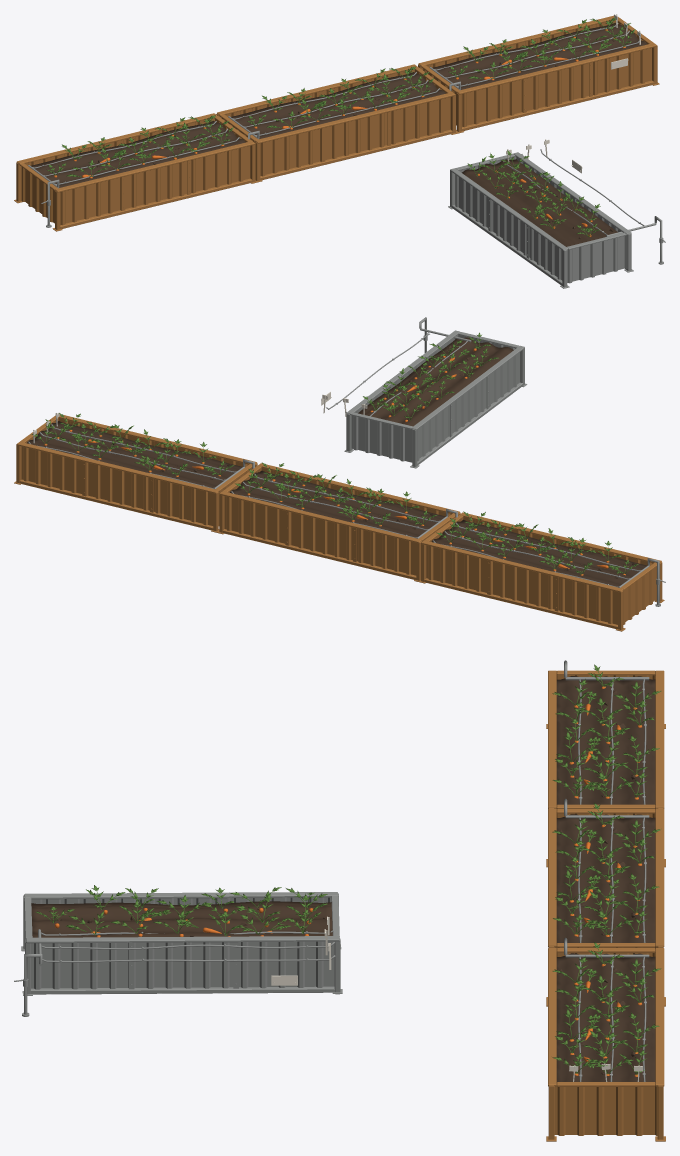
Rendered from nomad_farm_plot_decor.fbx.
3 renders of one model, top to bottom at view 1: azimuth 30°, elevation 25°; view 2: azimuth 150°, elevation 25°; view 3: azimuth 270°, elevation 25°, orthographic. The views are drawn at different scales.
Parts seen in each view (by area): view 1: C__FarmBed_Roots__04, C__FarmBed_Roots__02, C__FarmBed_Roots__06, C__FarmBed_Roots__01, C__FarmBed_Roots__08; view 2: C__FarmBed_Roots__04, C__FarmBed_Roots__02, C__FarmBed_Roots__06, C__FarmBed_Roots__01, C__FarmBed_Roots__08; view 3: C__FarmBed_Roots__06, C__FarmBed_Roots__02, C__FarmBed_Roots__04, C__FarmBed_Roots__08, C__FarmBed_Roots__01.
Part boxes in pixels (<box>): C__FarmBed_Roots__04: <box>14,113,257,231</box>; C__FarmBed_Roots__02: <box>216,64,457,182</box>; C__FarmBed_Roots__06: <box>448,139,665,288</box>; C__FarmBed_Roots__01: <box>418,15,659,133</box>; C__FarmBed_Roots__08: <box>429,14,647,90</box>; C__FarmBed_Roots__04: <box>419,511,665,631</box>; C__FarmBed_Roots__02: <box>217,462,460,582</box>; C__FarmBed_Roots__06: <box>321,317,527,468</box>; C__FarmBed_Roots__01: <box>14,414,257,532</box>; C__FarmBed_Roots__08: <box>27,412,254,489</box>; C__FarmBed_Roots__06: <box>14,885,342,1016</box>; C__FarmBed_Roots__02: <box>546,798,665,1001</box>; C__FarmBed_Roots__04: <box>546,660,665,862</box>; C__FarmBed_Roots__08: <box>552,937,661,1082</box>; C__FarmBed_Roots__01: <box>546,948,665,1141</box>.
Bounding box in the file's own units: 1657 × 141 × 1081.
